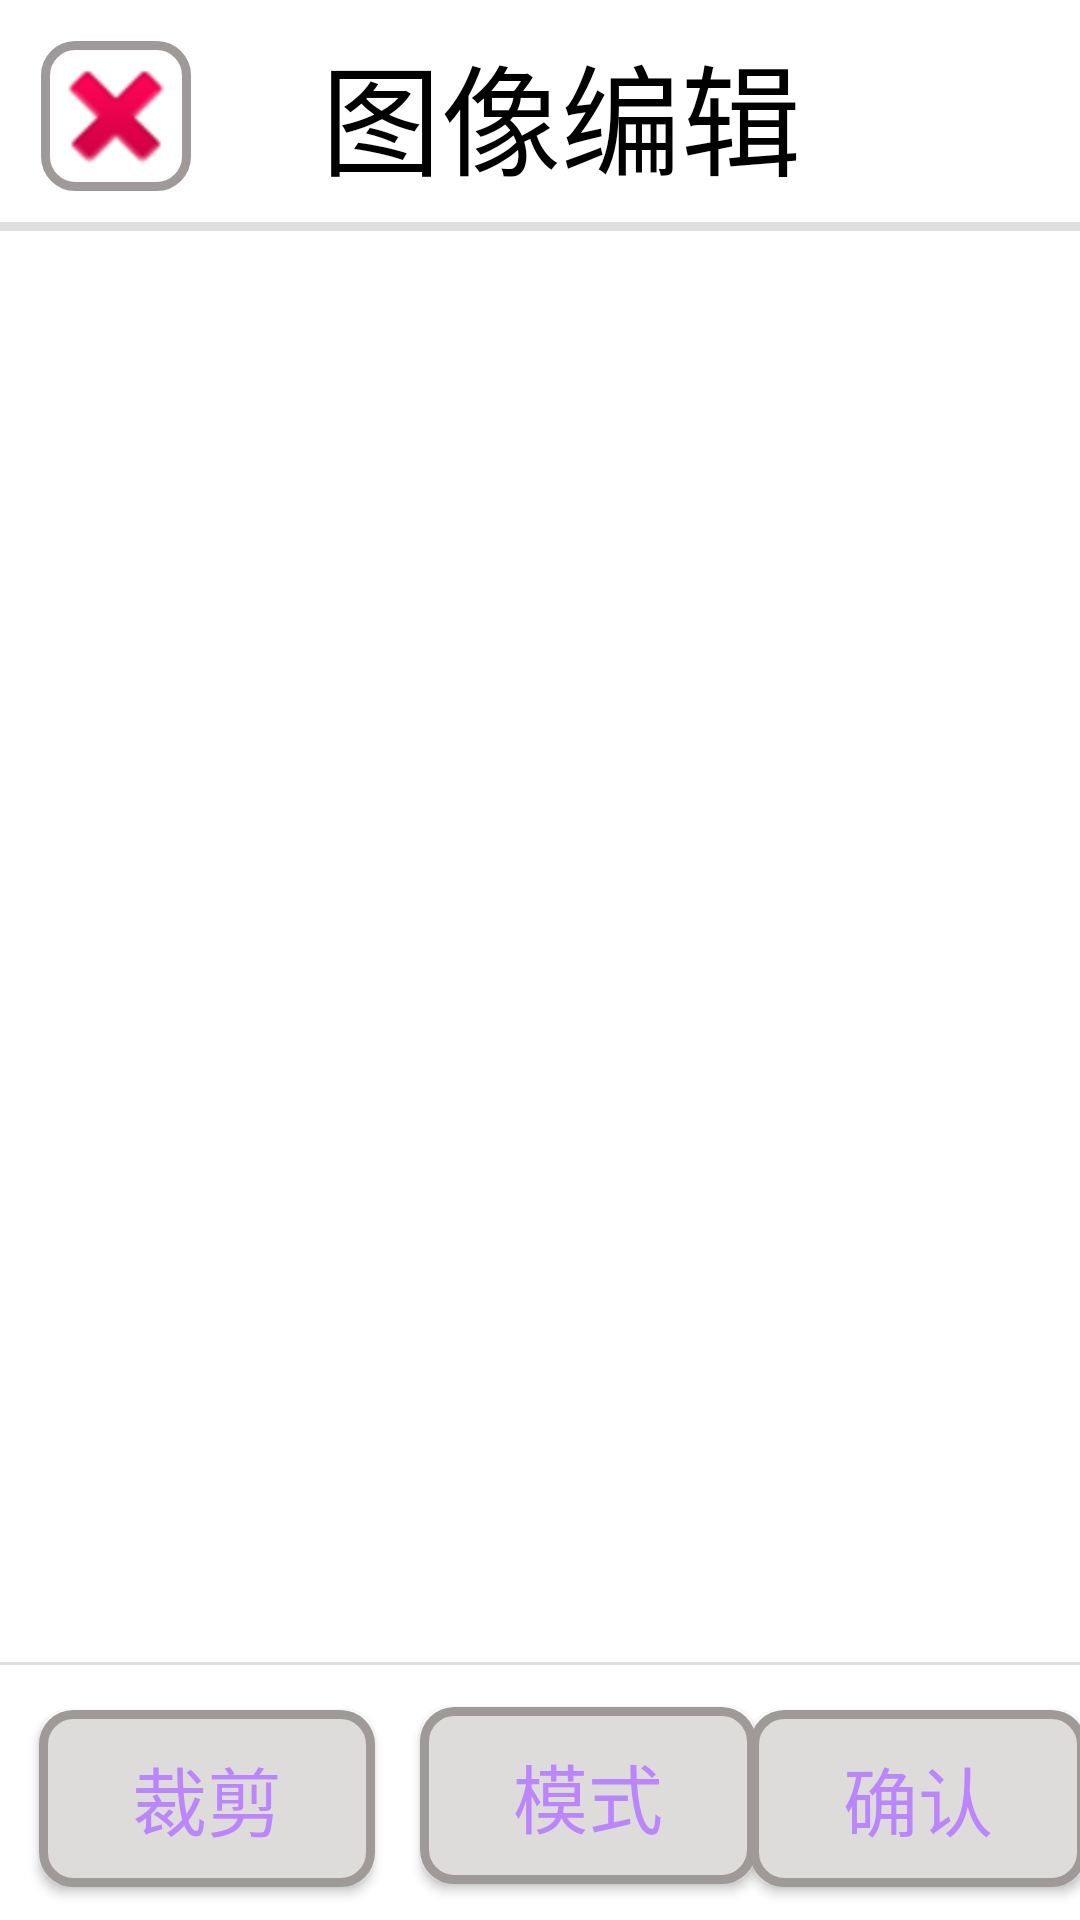

Screen size 1080×1920. Icon name, then its box in pixels as (x1, y1, x2, y2):
delete: (41, 41, 191, 191)
